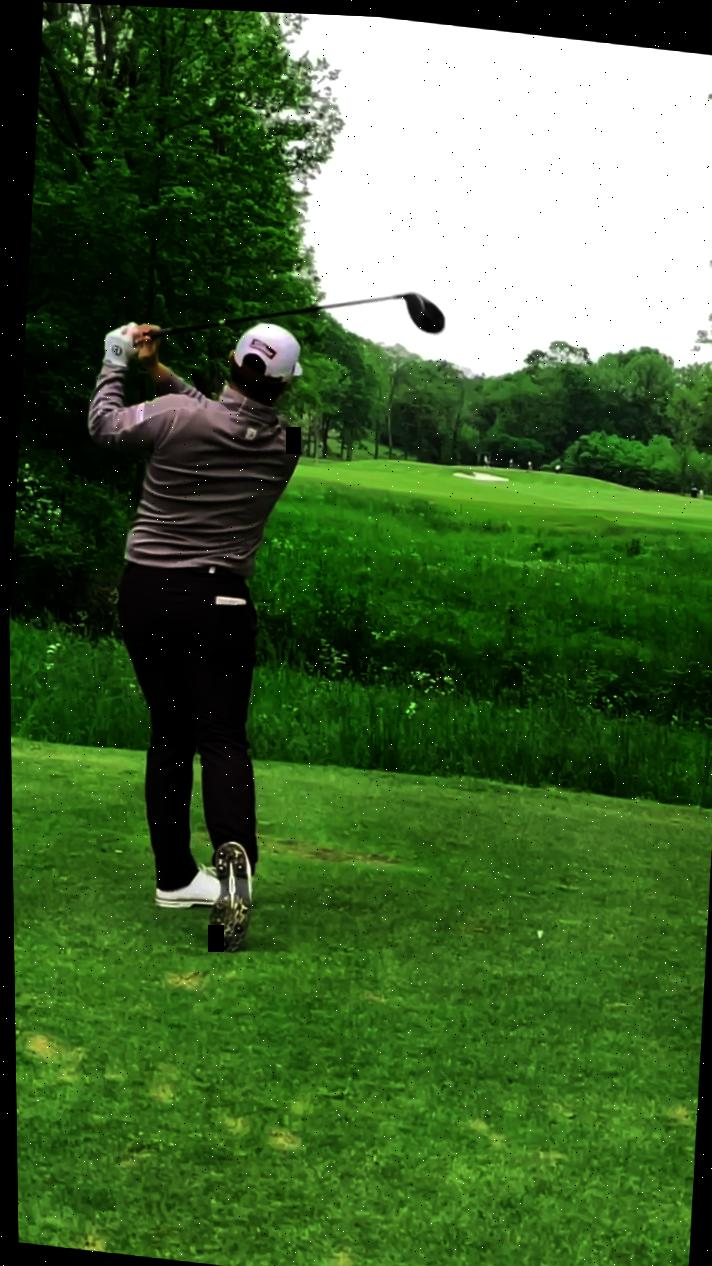ClubHead: (386, 275, 461, 344)
